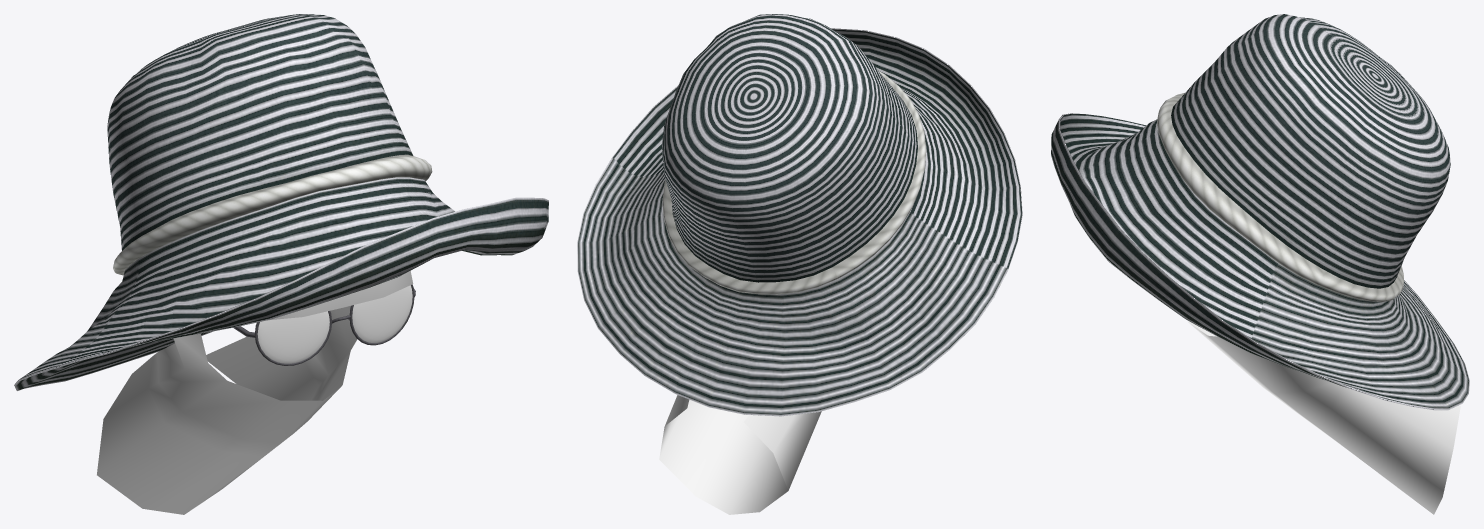
File: anime.fbx
The picture shows the model from 3 angles, left to right: view 1: azimuth 30°, elevation 25°; view 2: azimuth 150°, elevation 25°; view 3: azimuth 270°, elevation 25°; orthographic projection. The views are drawn at different scales.
Parts seen in each view (by area): view 1: geo_hat_low, geo_matte, geo_glass, geo_forelock; view 2: geo_hat_low, geo_matte; view 3: geo_hat_low, geo_matte.
Part boxes in pixels (box(x1,y1,x2,y2)): geo_hat_low: box(14, 14, 548, 390); geo_matte: box(97, 306, 357, 514); geo_glass: box(233, 284, 415, 365); geo_forelock: box(268, 271, 413, 320); geo_hat_low: box(577, 14, 1022, 416); geo_matte: box(659, 395, 821, 514); geo_hat_low: box(1051, 14, 1469, 410); geo_matte: box(1188, 321, 1460, 514).
Bounding box in the file's own units: 394 × 425 × 334.
